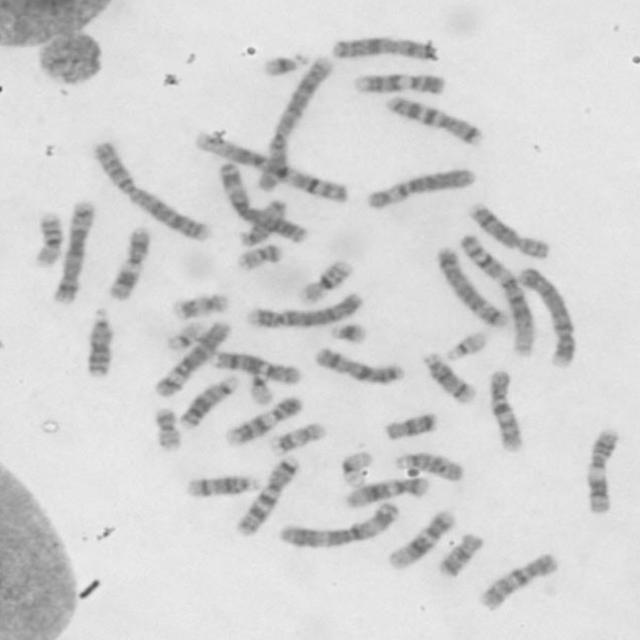A1: (192, 131, 350, 205), (457, 231, 537, 361)
A2: (92, 142, 214, 244), (254, 55, 338, 193)
A3: (217, 161, 310, 244), (276, 500, 400, 551)
B4: (517, 266, 580, 369), (245, 290, 365, 331)
B5: (433, 243, 511, 329), (52, 200, 96, 306)
C10: (476, 552, 562, 614), (484, 368, 526, 453)
C11: (107, 227, 152, 301), (584, 427, 619, 516)
C12: (385, 511, 456, 571), (345, 475, 429, 511)
C6: (153, 319, 234, 398), (364, 167, 477, 210)
C7: (234, 453, 299, 538), (386, 93, 486, 148)
C8: (466, 202, 551, 260), (212, 350, 302, 386)
C9: (224, 396, 302, 448), (350, 72, 450, 97)
D13: (176, 374, 242, 432), (85, 305, 114, 378)
D14: (421, 351, 479, 408), (184, 473, 263, 498)
D15: (238, 198, 287, 249), (393, 450, 467, 483)
E16: (296, 260, 353, 306), (31, 211, 65, 271)
E17: (267, 420, 330, 458), (171, 292, 230, 322)
E18: (437, 531, 485, 580), (383, 412, 438, 441)
F19: (247, 360, 278, 406), (339, 450, 372, 490)
F20: (234, 242, 285, 272), (152, 406, 184, 452)
G21: (262, 51, 309, 77), (329, 320, 368, 346)
G22: (442, 330, 488, 362), (163, 318, 206, 352)
X: (310, 346, 410, 388), (332, 35, 442, 63)
